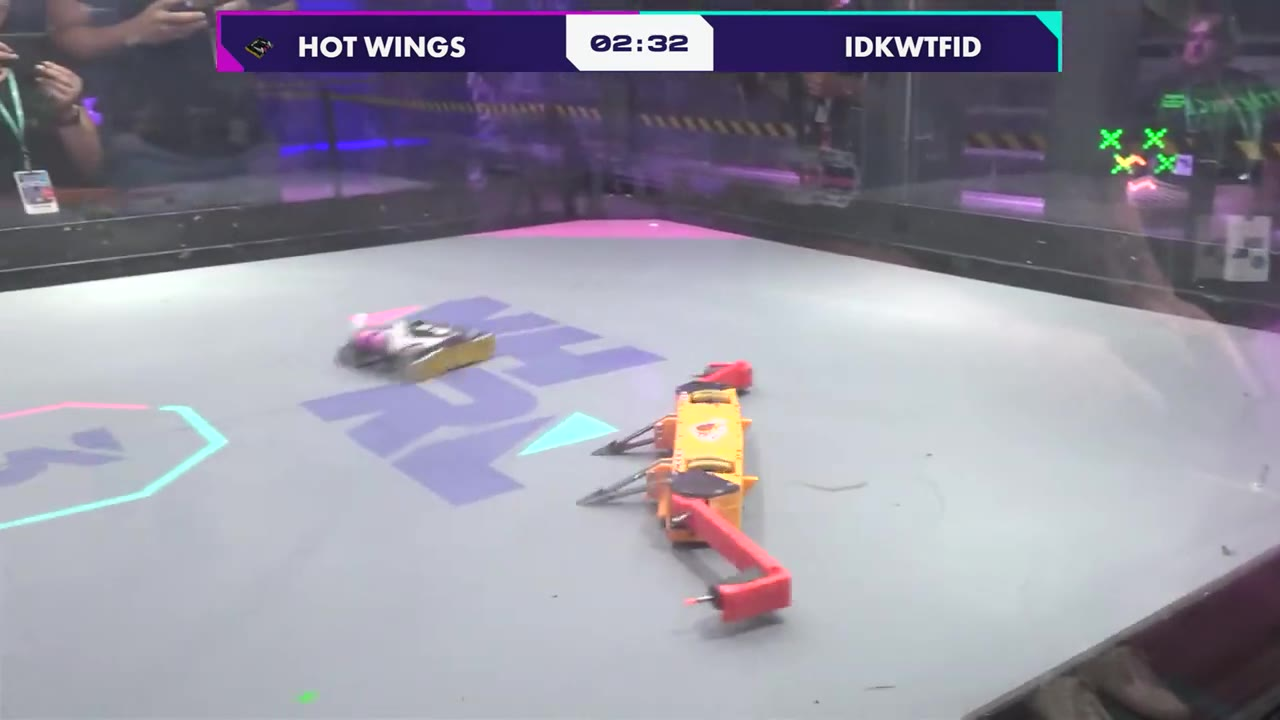combatbot: (576, 360, 792, 623), (336, 308, 503, 384)
